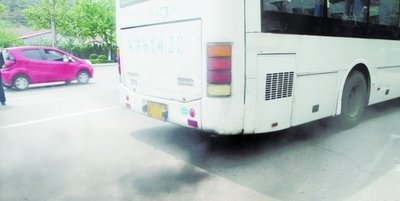smoke: (1, 126, 217, 201)
